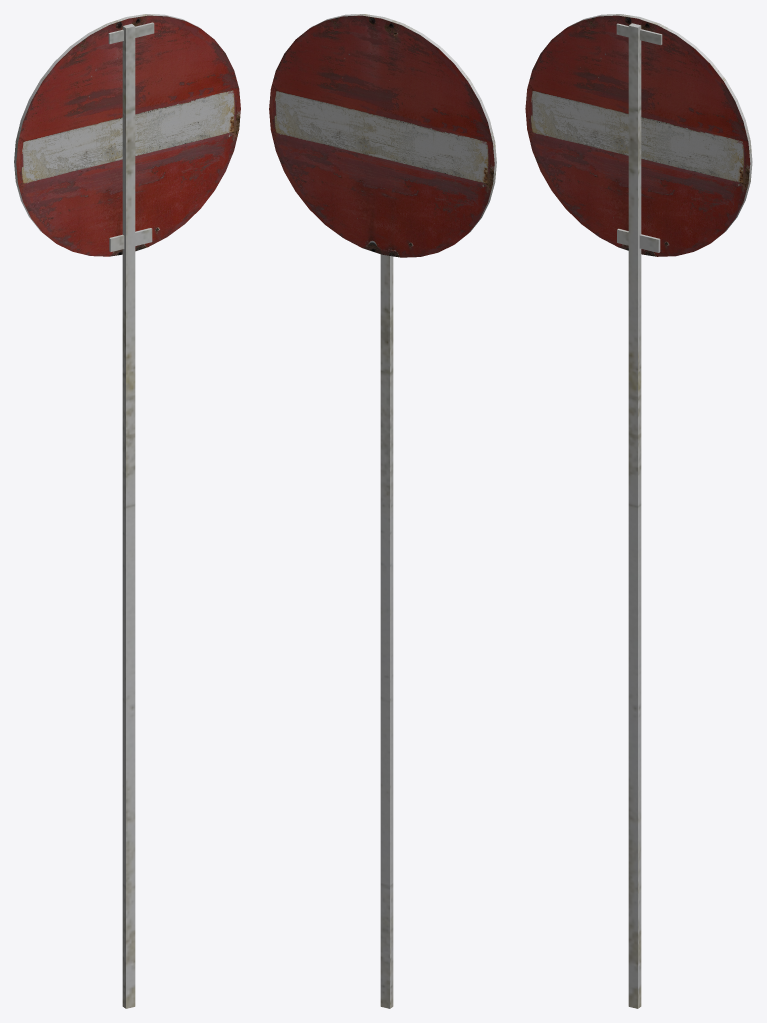
File: StopSign.FBX
3 views of the same model, side by side, from view 1: azimuth 30°, elevation 25°; view 2: azimuth 150°, elevation 25°; view 3: azimuth 330°, elevation 25° (orthographic).
Visible parts, largest first — view 1: Box003; view 2: Box003; view 3: Box003.
Part boxes in pixels (x1,y1,x2,y2): Box003: (14, 14, 240, 1008); Box003: (269, 14, 496, 1008); Box003: (525, 14, 752, 1008).
Size of the model in its own units: 60.46 by 254 by 2.58.
1 material, 1 textured.
